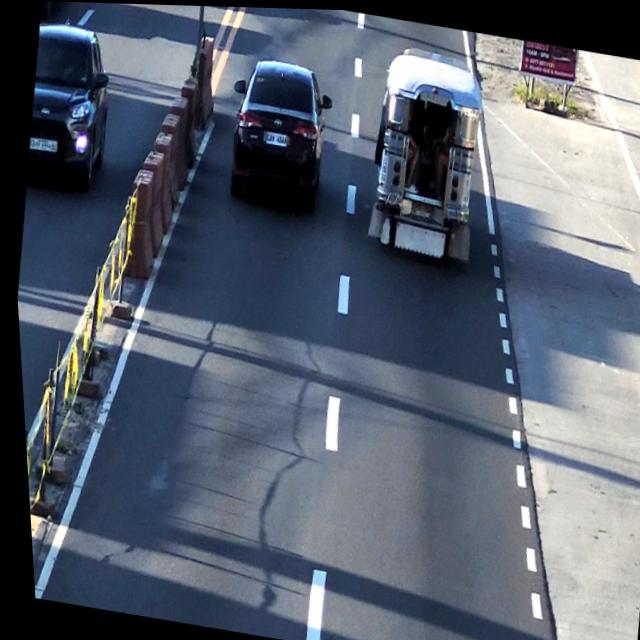Car: (215, 47, 337, 210)
Jeep: (357, 36, 494, 262)
License-Plate: (262, 130, 287, 148)
